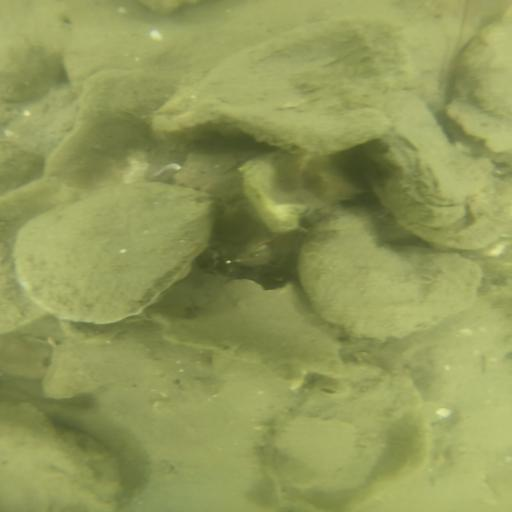Oyster-Closed: (152, 16, 423, 156), (251, 359, 462, 512), (295, 204, 484, 340), (143, 269, 349, 386), (364, 99, 512, 250), (37, 70, 187, 191), (2, 398, 125, 512), (234, 149, 365, 234), (452, 4, 511, 150), (37, 344, 162, 402)
Oyster-Open: (10, 183, 214, 323)
